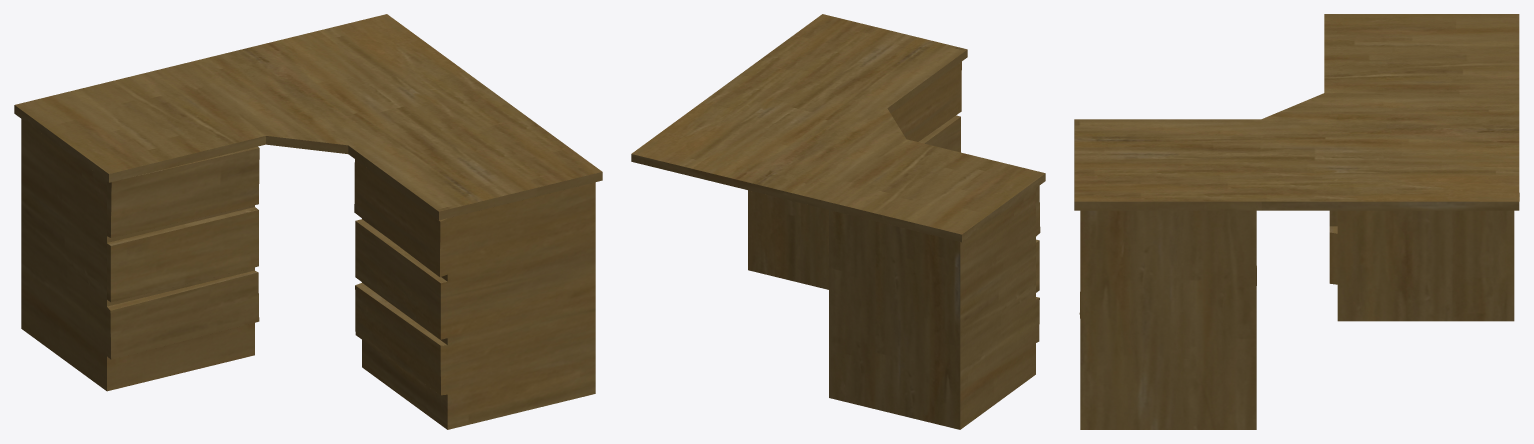
The model's file is Cabinet5.fbx.
3 views of the same model, side by side, from view 1: azimuth 30°, elevation 25°; view 2: azimuth 150°, elevation 25°; view 3: azimuth 270°, elevation 25° (orthographic). The views are drawn at different scales.
Visible parts, largest first — view 1: Cabinet5; view 2: Cabinet5; view 3: Cabinet5.
Boxes of the visible parts, bbox=[...] form: Cabinet5: bbox=[14, 14, 602, 429]; Cabinet5: bbox=[631, 14, 1045, 429]; Cabinet5: bbox=[1074, 14, 1519, 429].
Bounding box in the file's own units: 552 × 316 × 553.
